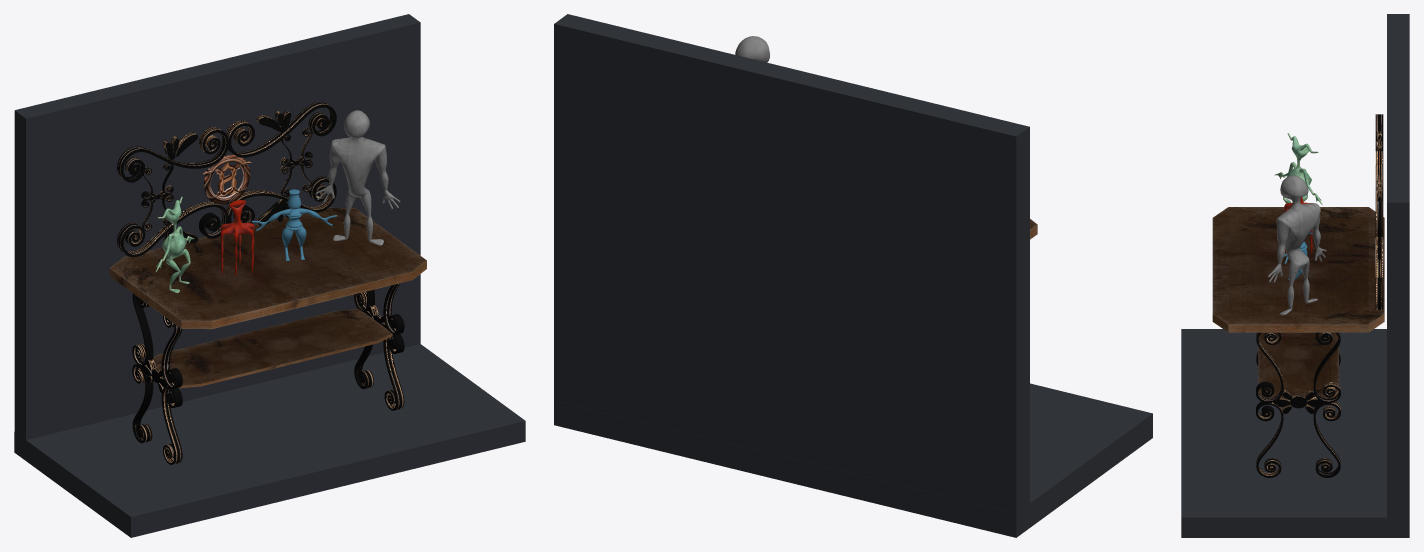
File: mydeskmodelslit.gltf
3 views of the same model, side by side, from view 1: azimuth 30°, elevation 25°; view 2: azimuth 150°, elevation 25°; view 3: azimuth 270°, elevation 25° (orthographic). The views are drawn at different scales.
Visible parts, largest first — view 1: Cube.002, Cube.001, Cube, path12717.103, Plane.004, path464, Plane.008, Plane.001, Plane.006; view 2: Cube.002, Cube.001; view 3: Cube.001, Cube, Cube.002, path12717.103, Plane.004, Plane.008.
Boxes of the visible parts, box(x1,y1,x2,y2) form: Cube.002: box(14, 14, 420, 455); Cube.001: box(14, 344, 525, 537); Cube: box(109, 207, 426, 388); path12717.103: box(117, 102, 404, 464); Plane.004: box(315, 110, 400, 245); path464: box(203, 155, 251, 204); Plane.008: box(155, 197, 194, 292); Plane.001: box(251, 189, 336, 260); Plane.006: box(220, 200, 254, 277); Cube.002: box(554, 14, 1029, 531); Cube.001: box(554, 383, 1152, 537); Cube.001: box(1181, 329, 1409, 537); Cube: box(1212, 207, 1384, 398); Cube.002: box(1387, 14, 1409, 532); path12717.103: box(1256, 114, 1383, 477); Plane.004: box(1268, 175, 1326, 315); Plane.008: box(1274, 133, 1322, 205).
Bounding box in the file's own units: 10.38 × 8.61 × 5.32.
Materials: 8 (7 with a texture image).
